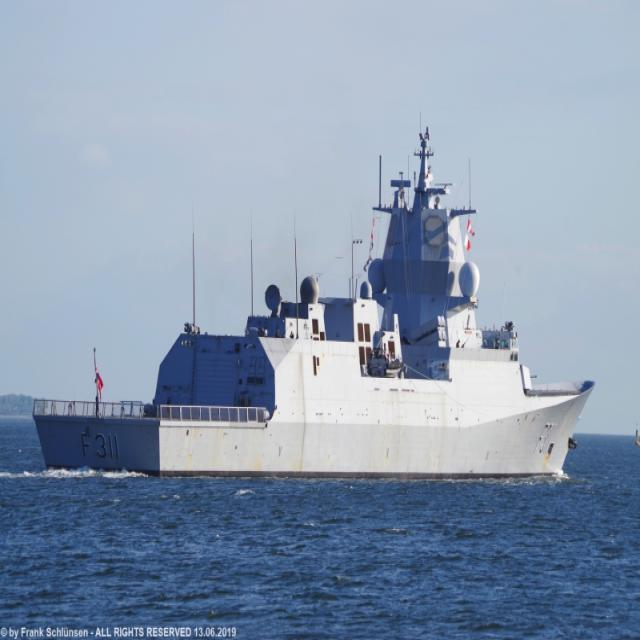Fragata: (28, 119, 603, 483)
